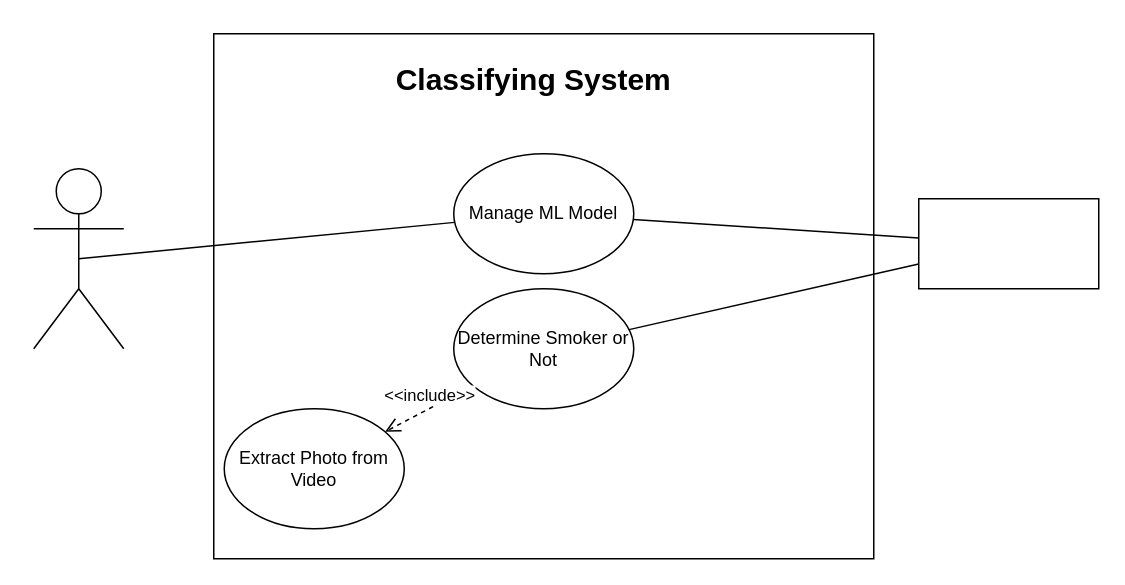
Image size: 1125x585. Some labels were removed from this diagram. Here are the shapes that lost their labels. From the top down, the centre of each, then its label:
[78,258]: Administrator
[1008,243]: <<actor>> Classifier Server
